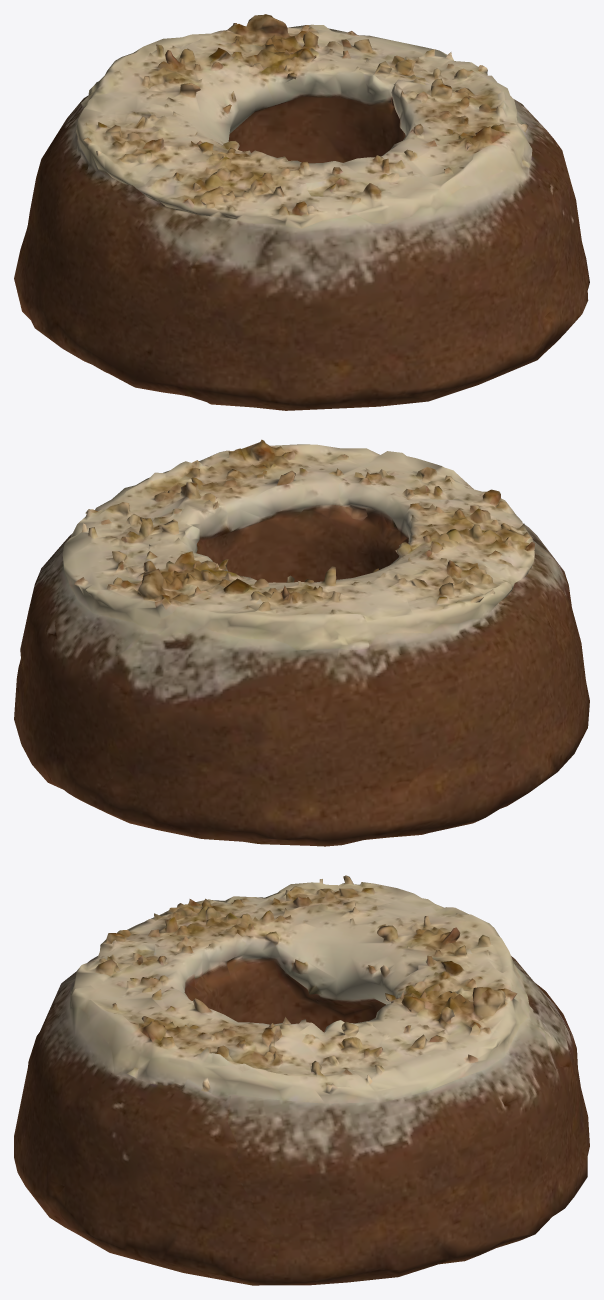
File: carrot_cake.glb
3 views of the same model, one above another, from view 1: azimuth 30°, elevation 25°; view 2: azimuth 150°, elevation 25°; view 3: azimuth 270°, elevation 25° (orthographic). The views are drawn at different scales.
Visible parts, largest first — view 1: carrot_cake; view 2: carrot_cake; view 3: carrot_cake.
Boxes of the visible parts, left/top/right/bottom form: carrot_cake: left=14, top=14, right=589, bottom=410; carrot_cake: left=14, top=439, right=589, bottom=846; carrot_cake: left=14, top=875, right=589, bottom=1285.
Size of the model in its own units: 0.2254 by 0.0976 by 0.2254.
Materials: 1 (1 with a texture image).
